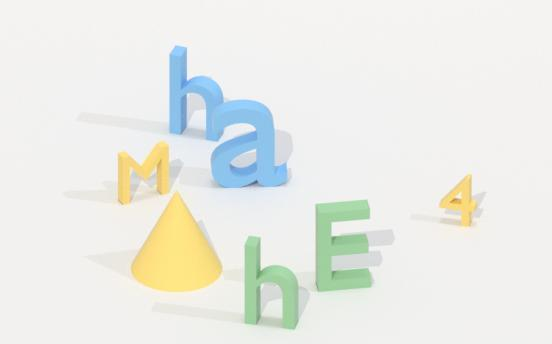chu_khoi: (211, 100, 287, 187), (315, 200, 371, 290), (169, 46, 222, 140), (244, 236, 298, 328), (118, 141, 169, 203)
non: (131, 192, 221, 291)
so_khoi: (439, 175, 476, 225)
